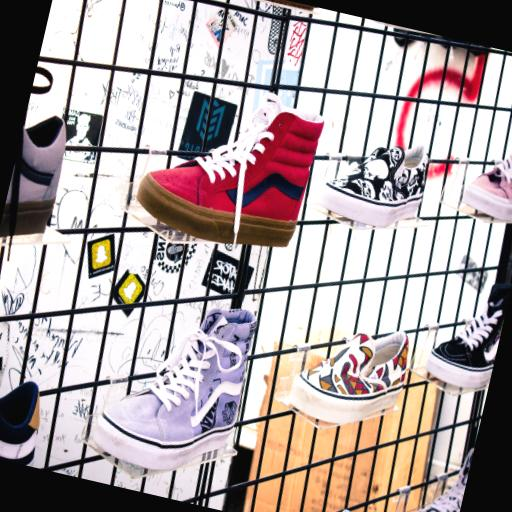shoe: (136, 94, 322, 246), (93, 309, 256, 470), (288, 331, 407, 424), (425, 284, 511, 389), (317, 145, 427, 227), (0, 117, 65, 237), (345, 2, 447, 36), (419, 449, 473, 511), (462, 154, 511, 221), (0, 382, 38, 466), (266, 0, 315, 10), (342, 510, 348, 511)
